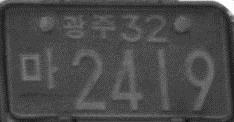1: (155, 46, 171, 113)
2: (70, 46, 107, 113), (144, 13, 170, 44)
3: (120, 13, 142, 44)
4: (110, 48, 144, 112)
9: (181, 48, 217, 113)
광주_O: (61, 12, 116, 42)
마: (19, 46, 59, 92)
